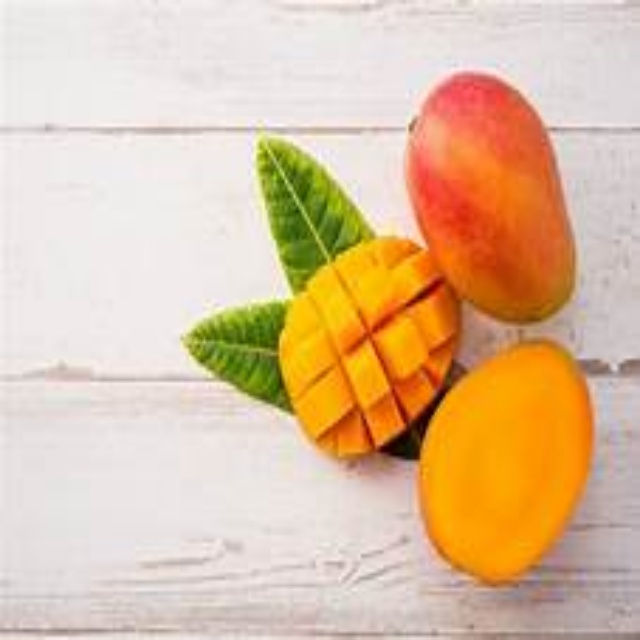mango: (416, 339, 591, 590), (404, 73, 583, 318), (278, 238, 457, 464)
